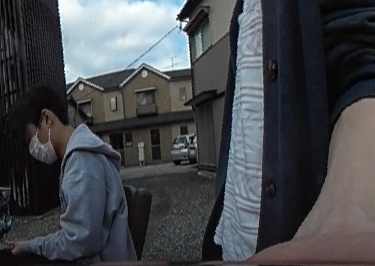person: (11, 83, 133, 266)
